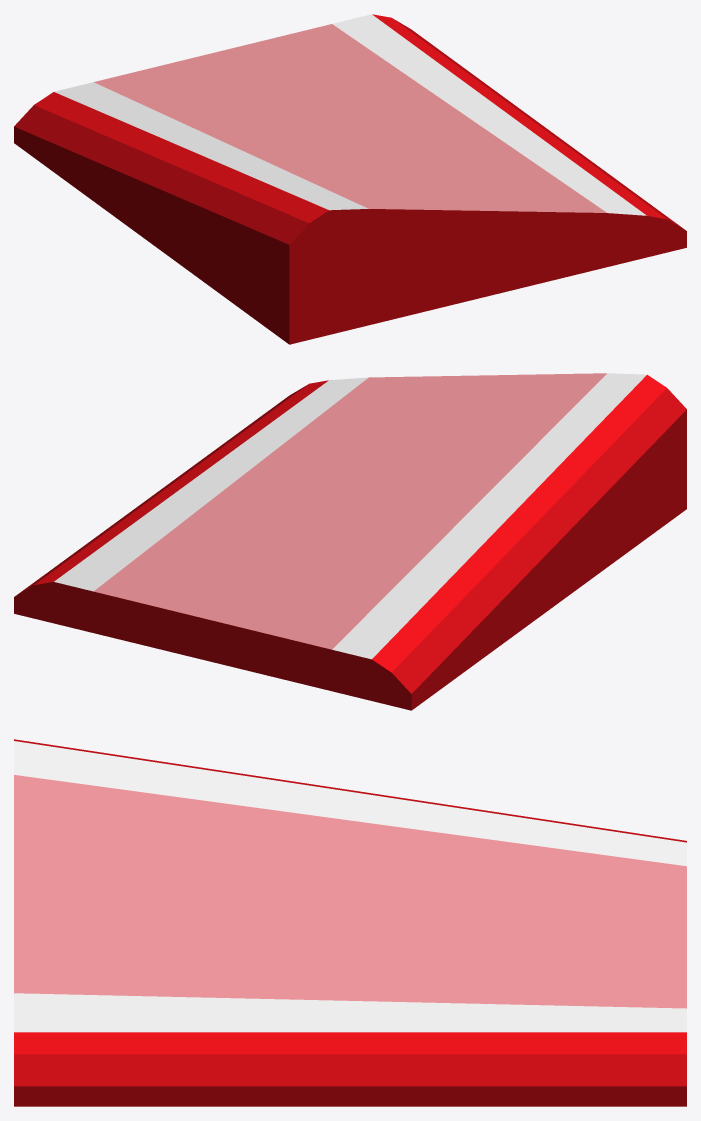
File: bank1.fbx
3 renders of one model, top to bottom at view 1: azimuth 30°, elevation 25°; view 2: azimuth 150°, elevation 25°; view 3: azimuth 270°, elevation 25°, orthographic. The views are drawn at different scales.
Visible parts, largest first — view 1: BankedStraight.002; view 2: BankedStraight.002; view 3: BankedStraight.002.
Part boxes in pixels (x1,y1,x2,y2): BankedStraight.002: (14,14,686,344); BankedStraight.002: (14,373,686,710); BankedStraight.002: (14,739,686,1106).
Size of the model in its own units: 10 by 3 by 12.
